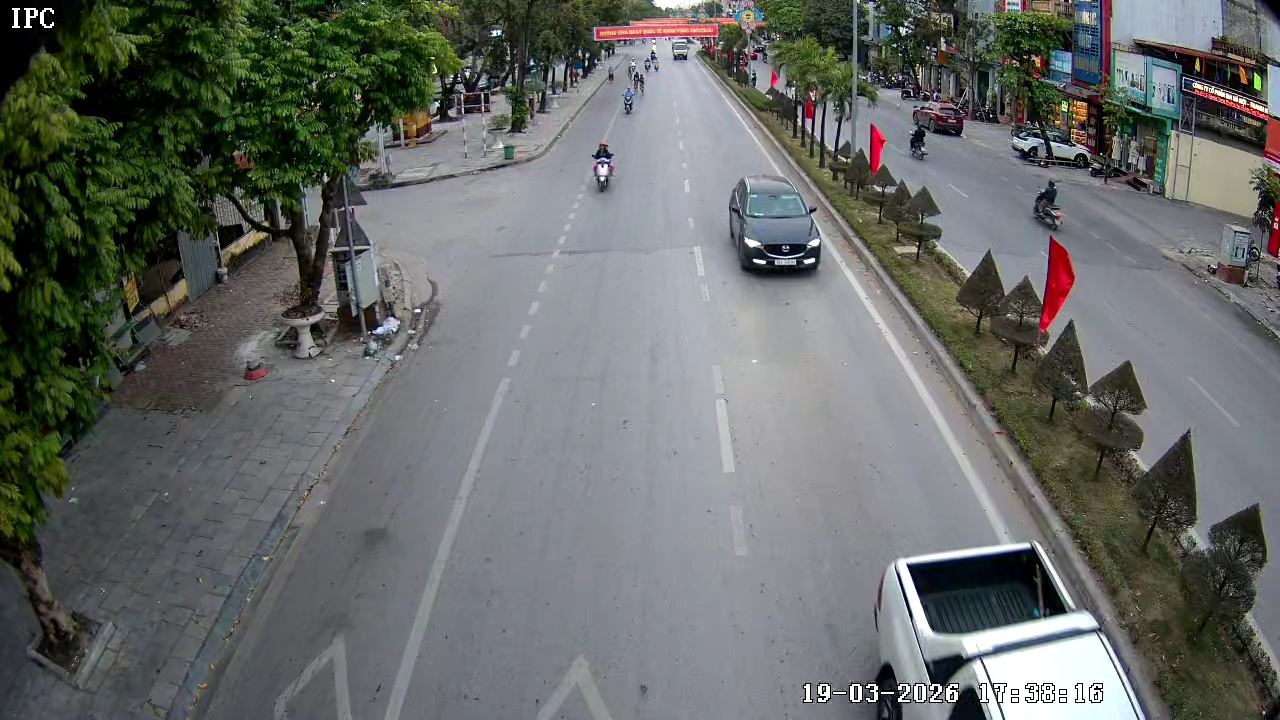car: (726, 176, 823, 274)
motorbike: (590, 139, 618, 194), (622, 85, 634, 112)
truck: (671, 39, 690, 62)
